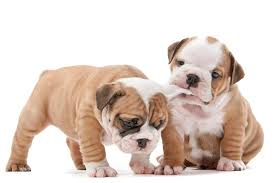Bulldog: (4, 58, 169, 174), (163, 37, 270, 172)
